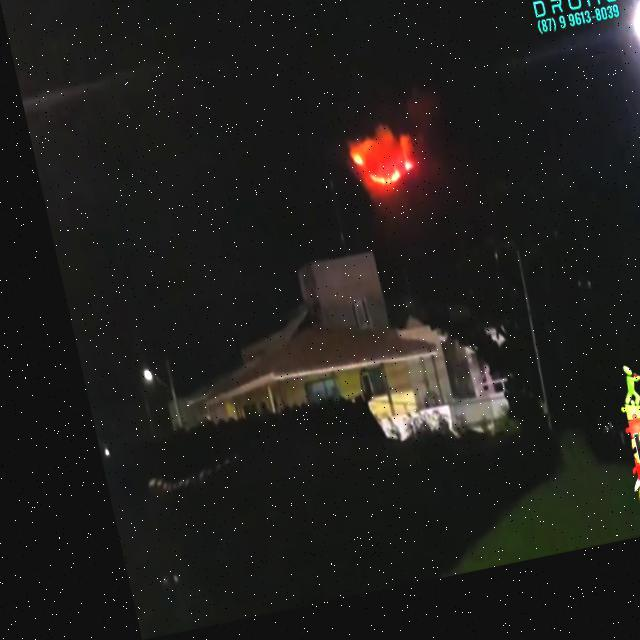Fire: (356, 176, 403, 200), (339, 163, 355, 180)
